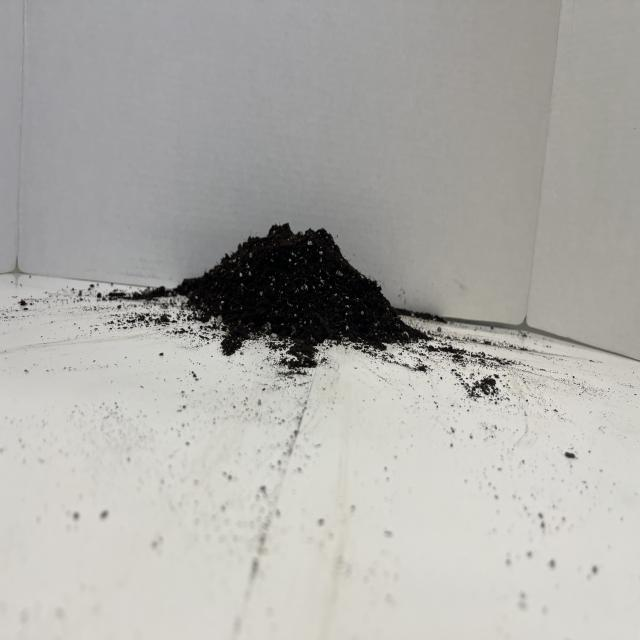soil: (166, 219, 430, 366)
